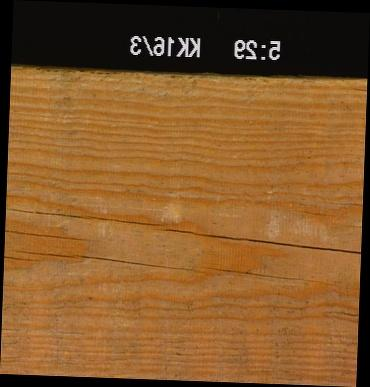split: (4, 208, 162, 224), (200, 266, 336, 282), (71, 254, 191, 268), (4, 228, 94, 241), (14, 247, 75, 257), (3, 253, 42, 261), (327, 307, 358, 316), (350, 84, 366, 91)
